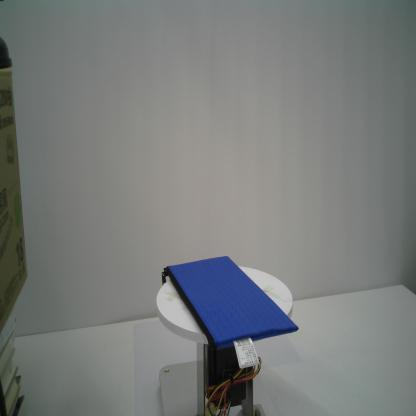Stationery: (161, 256, 299, 352)
